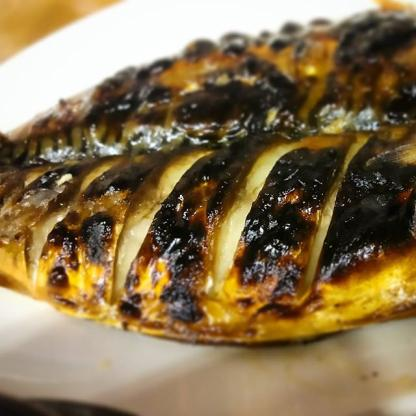Peixe: (0, 19, 416, 383)
